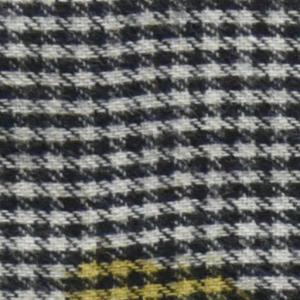Stain: (61, 249, 266, 300)
